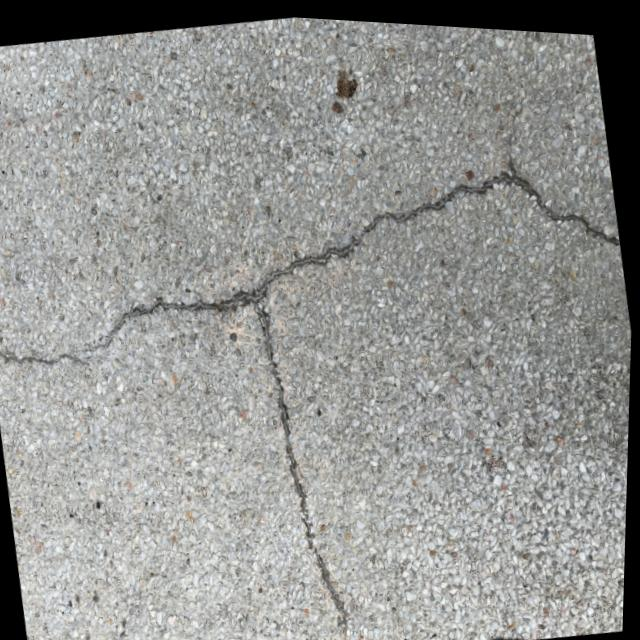Crack: (0, 130, 634, 410), (227, 337, 375, 640)
